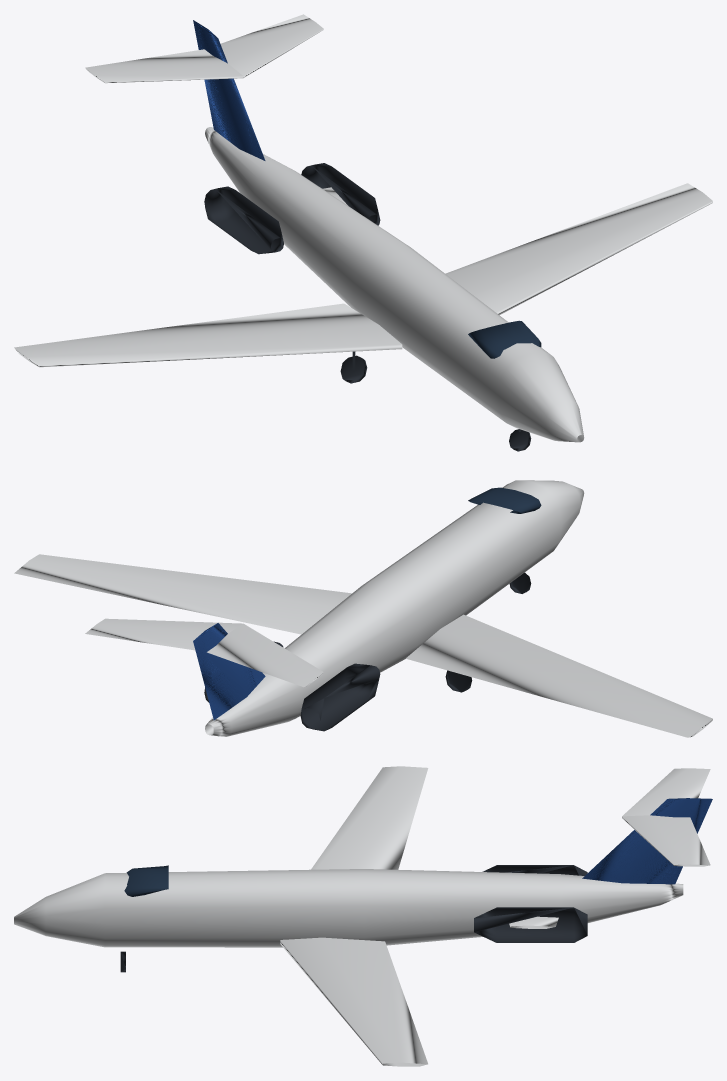
File: bizjet.glb
3 views of the same model, one above another, from view 1: azimuth 30°, elevation 25°; view 2: azimuth 150°, elevation 25°; view 3: azimuth 270°, elevation 25° (orthographic). The views are drawn at different scales.
Visible parts, largest first — view 1: bizjet; view 2: bizjet; view 3: bizjet.
Part boxes in pixels (x1,y1,x2,y2): bizjet: [14, 14, 712, 451]; bizjet: [14, 480, 712, 737]; bizjet: [14, 766, 712, 1066].
Bounding box in the file's own units: 15.4 × 4.21 × 15.35.
